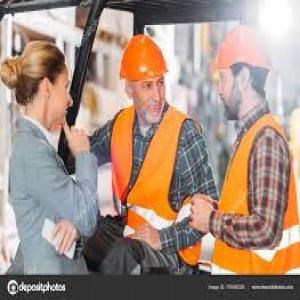none: (5, 39, 75, 129)
yellow: (211, 23, 275, 121), (122, 31, 171, 123)
